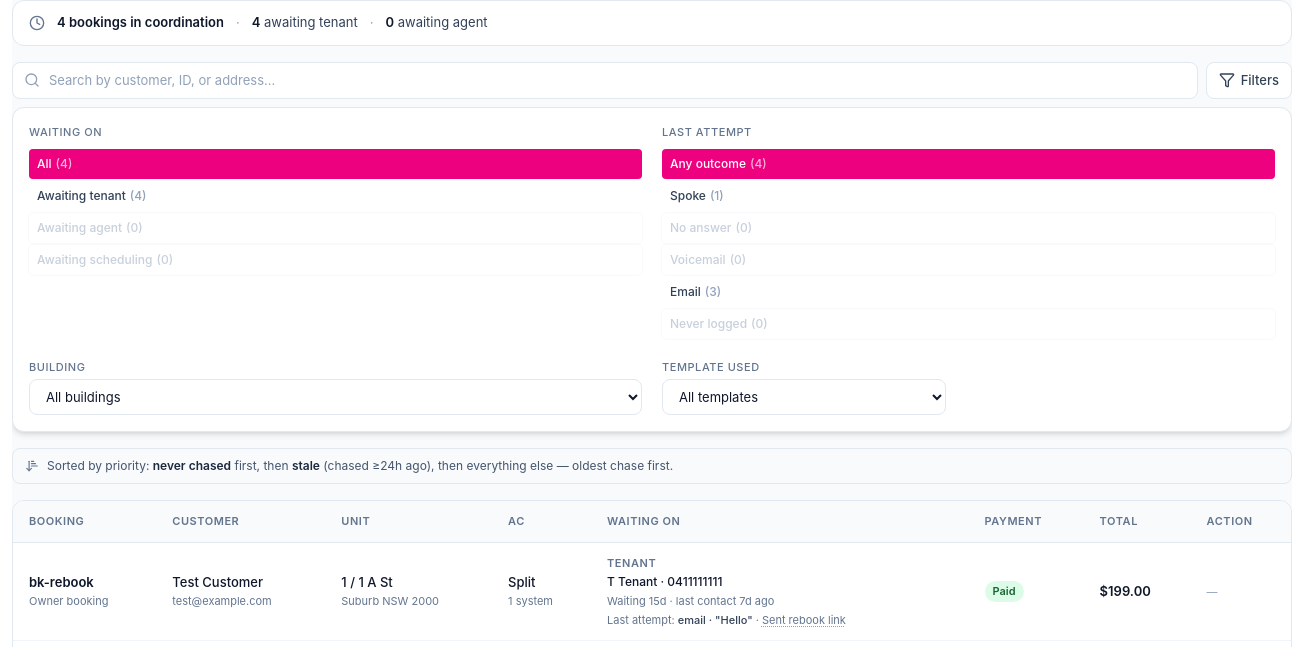
Test: AwaitingCoordinationView — template filter pivot › filters the queue to rows whose latest touch used the clicked template
Click the 1st button with test id "coordinating-with-last-attempt-template" at (804, 620), box [762,612,846,628]
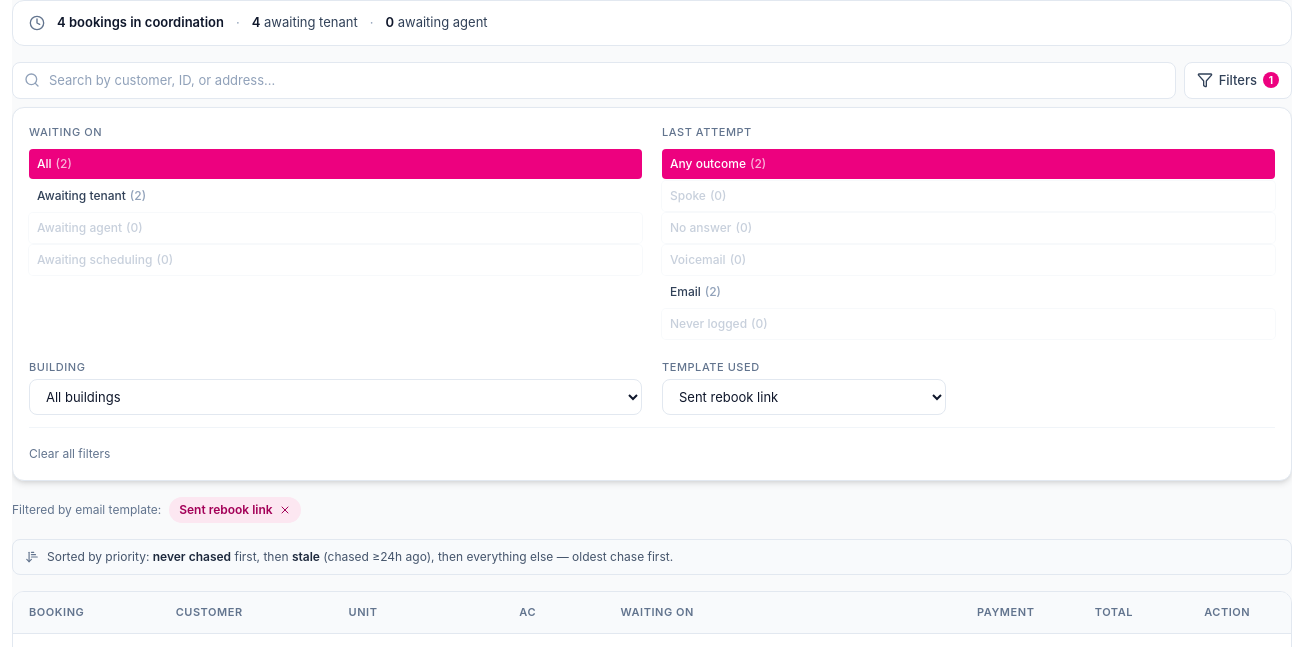
Now the element with test id "coordination-template-filter-chip" shows "Sent rebook link", box [169,497,301,523]
